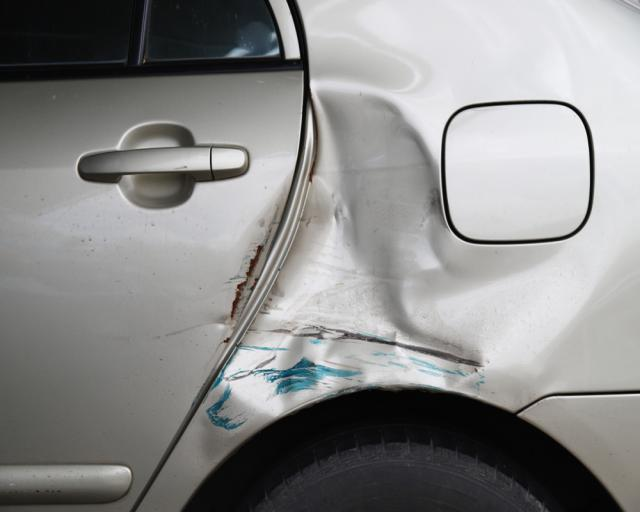dent: (224, 84, 582, 413)
scratch: (225, 212, 278, 327), (202, 376, 248, 431)
